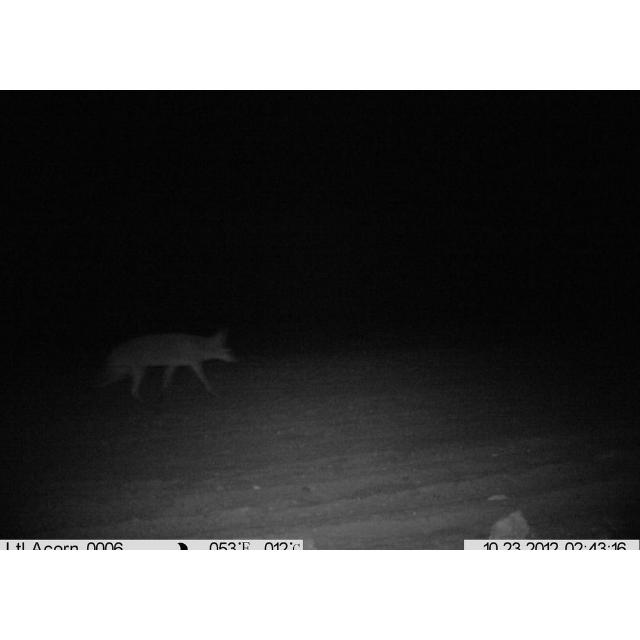animals: (82, 330, 236, 400)
